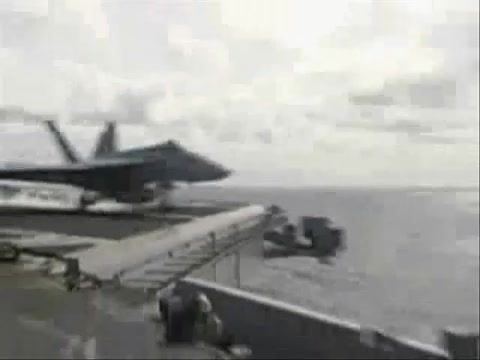aeroplane: (1, 121, 238, 209)
